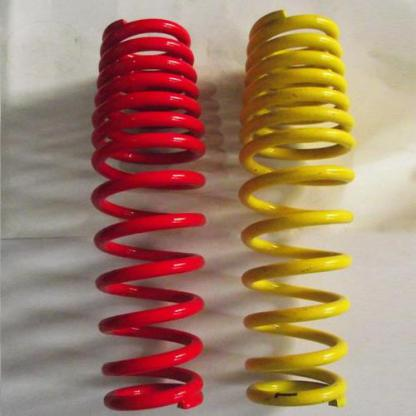FOD: (235, 7, 360, 412), (86, 14, 208, 412)
